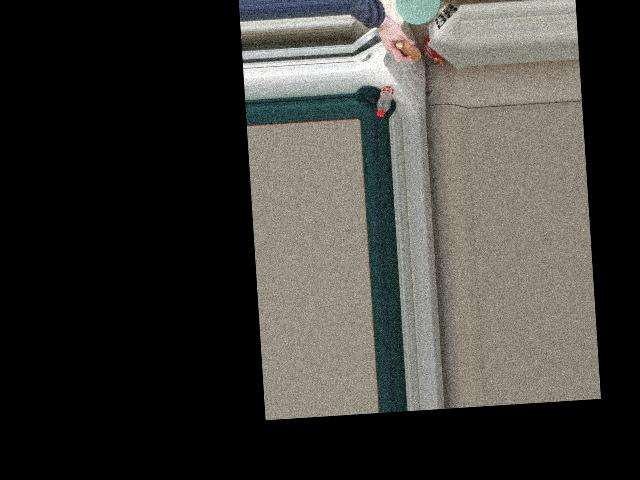sweet_potato: (392, 35, 420, 65)
